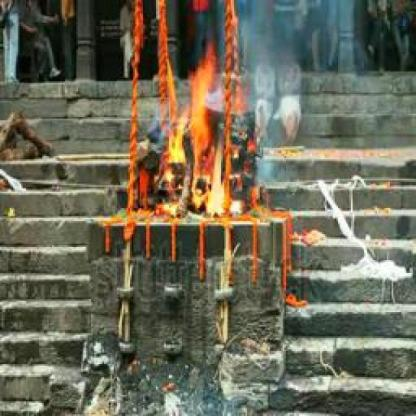fire: (161, 61, 245, 215)
